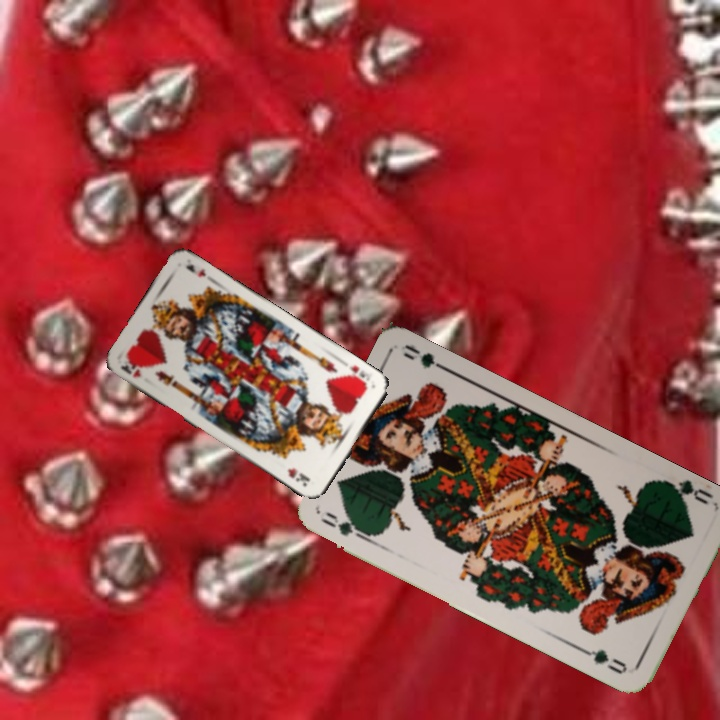GO: (316, 507, 374, 544), (658, 475, 716, 508)
HK: (344, 361, 375, 390), (117, 358, 144, 380)
